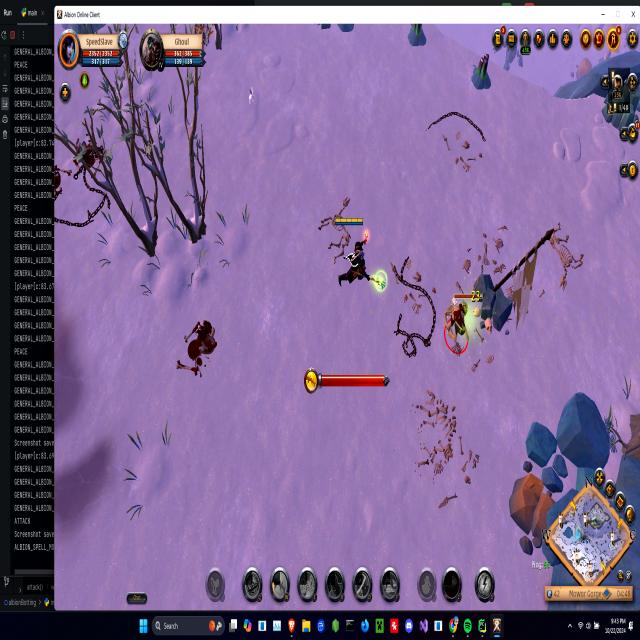ore: (439, 288, 485, 362)
player: (467, 48, 494, 99), (404, 23, 426, 54)
red: (330, 210, 387, 319)
tree: (506, 461, 565, 564), (574, 56, 596, 84)
